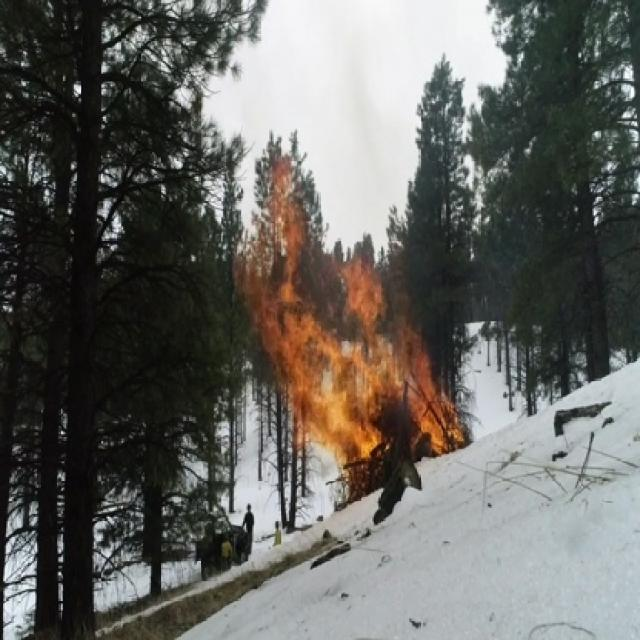Fire: (231, 146, 469, 485)
